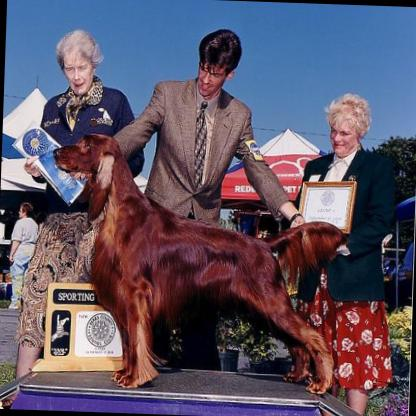Irish_setter: (44, 130, 356, 396)
